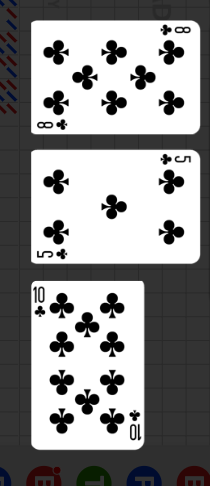10C: (32, 285, 47, 320), (127, 407, 142, 442)
8C: (35, 117, 70, 131)
